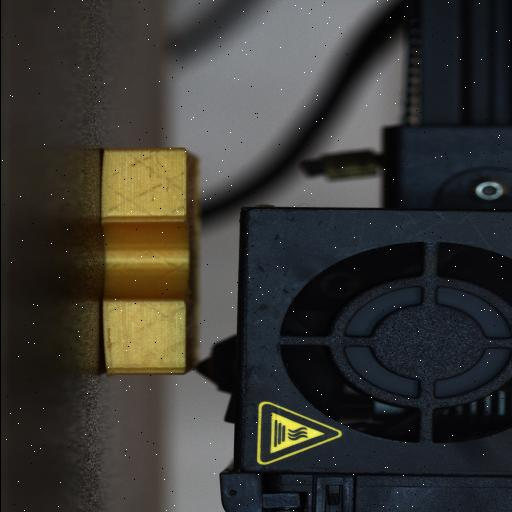warp: (94, 317, 121, 381)
